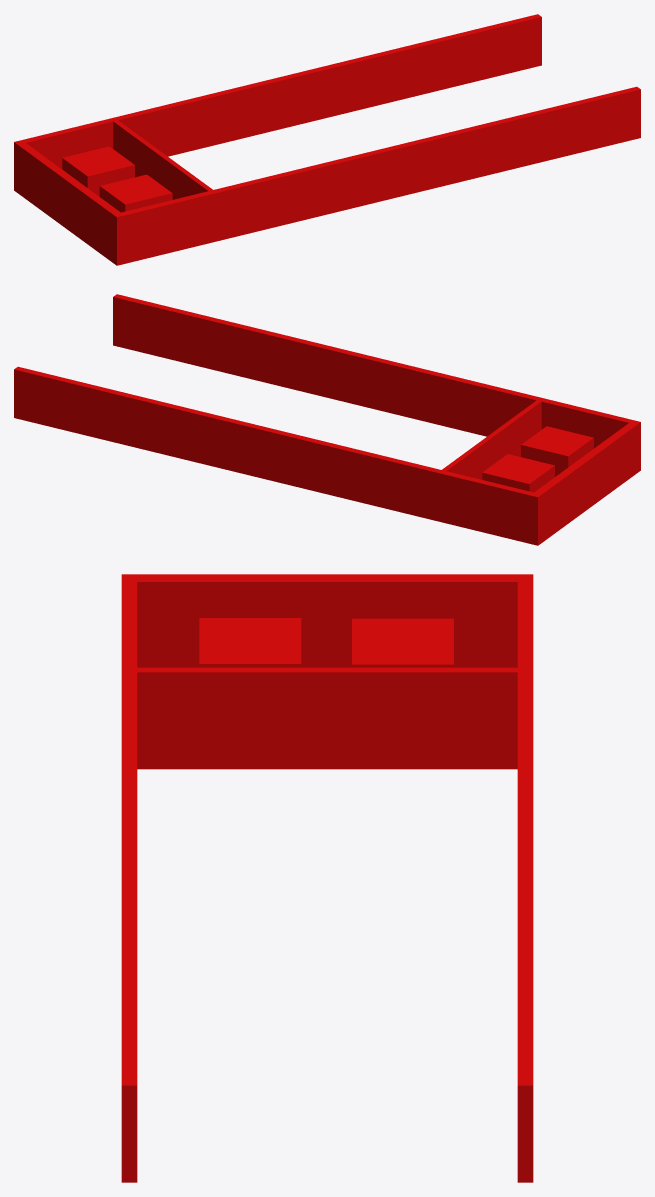
The model's file is SM_Bld_Industrial_Large_01_Attachments_01_Collision.fbx.
3 renders of one model, top to bottom at view 1: azimuth 30°, elevation 25°; view 2: azimuth 150°, elevation 25°; view 3: azimuth 270°, elevation 25°, orthographic. The views are drawn at different scales.
Parts seen in each view (by area): view 1: SM_Bld_Industrial_Large_01_Attachments_01_Collision; view 2: SM_Bld_Industrial_Large_01_Attachments_01_Collision; view 3: SM_Bld_Industrial_Large_01_Attachments_01_Collision.
Part boxes in pixels (x1,y1,x2,y2): SM_Bld_Industrial_Large_01_Attachments_01_Collision: (14,14,640,265); SM_Bld_Industrial_Large_01_Attachments_01_Collision: (14,294,640,545); SM_Bld_Industrial_Large_01_Attachments_01_Collision: (121,574,533,1182).
Bounding box in the file's own units: 3437 × 304 × 1169.
